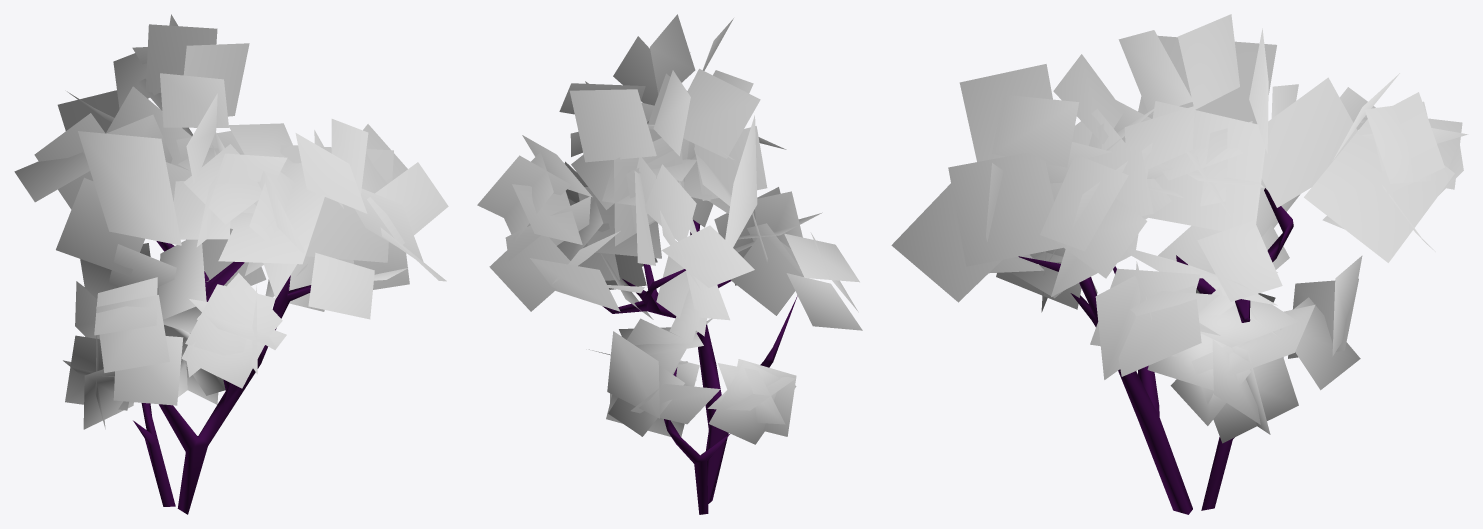
File: m_TreeSmall3_LOD2.fbx
3 views of the same model, side by side, from view 1: azimuth 30°, elevation 25°; view 2: azimuth 150°, elevation 25°; view 3: azimuth 270°, elevation 25° (orthographic). The views are drawn at different scales.
Parts seen in each view (by area): view 1: TreeSmall3_LOD2; view 2: TreeSmall3_LOD2; view 3: TreeSmall3_LOD2.
Boxes of the visible parts, x1,y1,x2,y2 form: TreeSmall3_LOD2: (14,14,448,514); TreeSmall3_LOD2: (477,14,862,514); TreeSmall3_LOD2: (891,14,1468,514).
Bounding box in the file's own units: 857 × 1130 × 1173.
